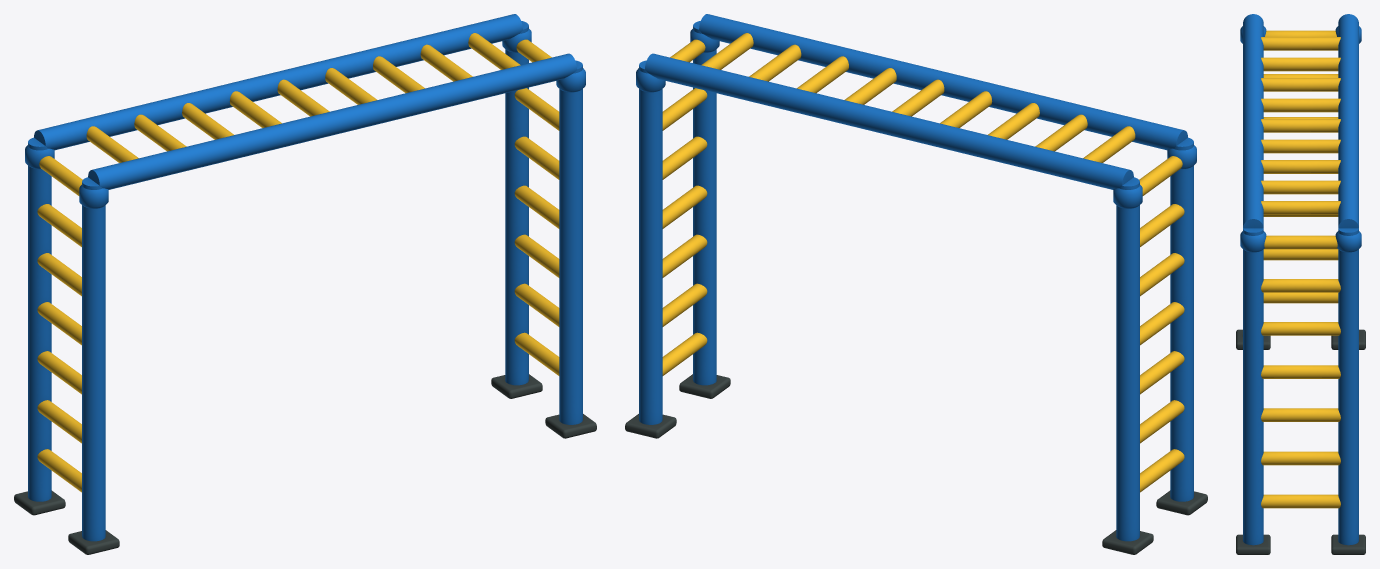
Rendered from monkey-bars.fbx.
The picture shows the model from 3 angles, left to right: view 1: azimuth 30°, elevation 25°; view 2: azimuth 150°, elevation 25°; view 3: azimuth 270°, elevation 25°; orthographic projection. The views are drawn at different scales.
Visible parts, largest first — view 1: monkey-bars; view 2: monkey-bars; view 3: monkey-bars.
Boxes of the visible parts, x1,y1,x2,y2 form: monkey-bars: (14,14,596,554); monkey-bars: (625,14,1207,554); monkey-bars: (1236,14,1365,554).
Size of the model in its own units: 60000 by 42000 by 15000.
Materials: 1 (1 with a texture image).
